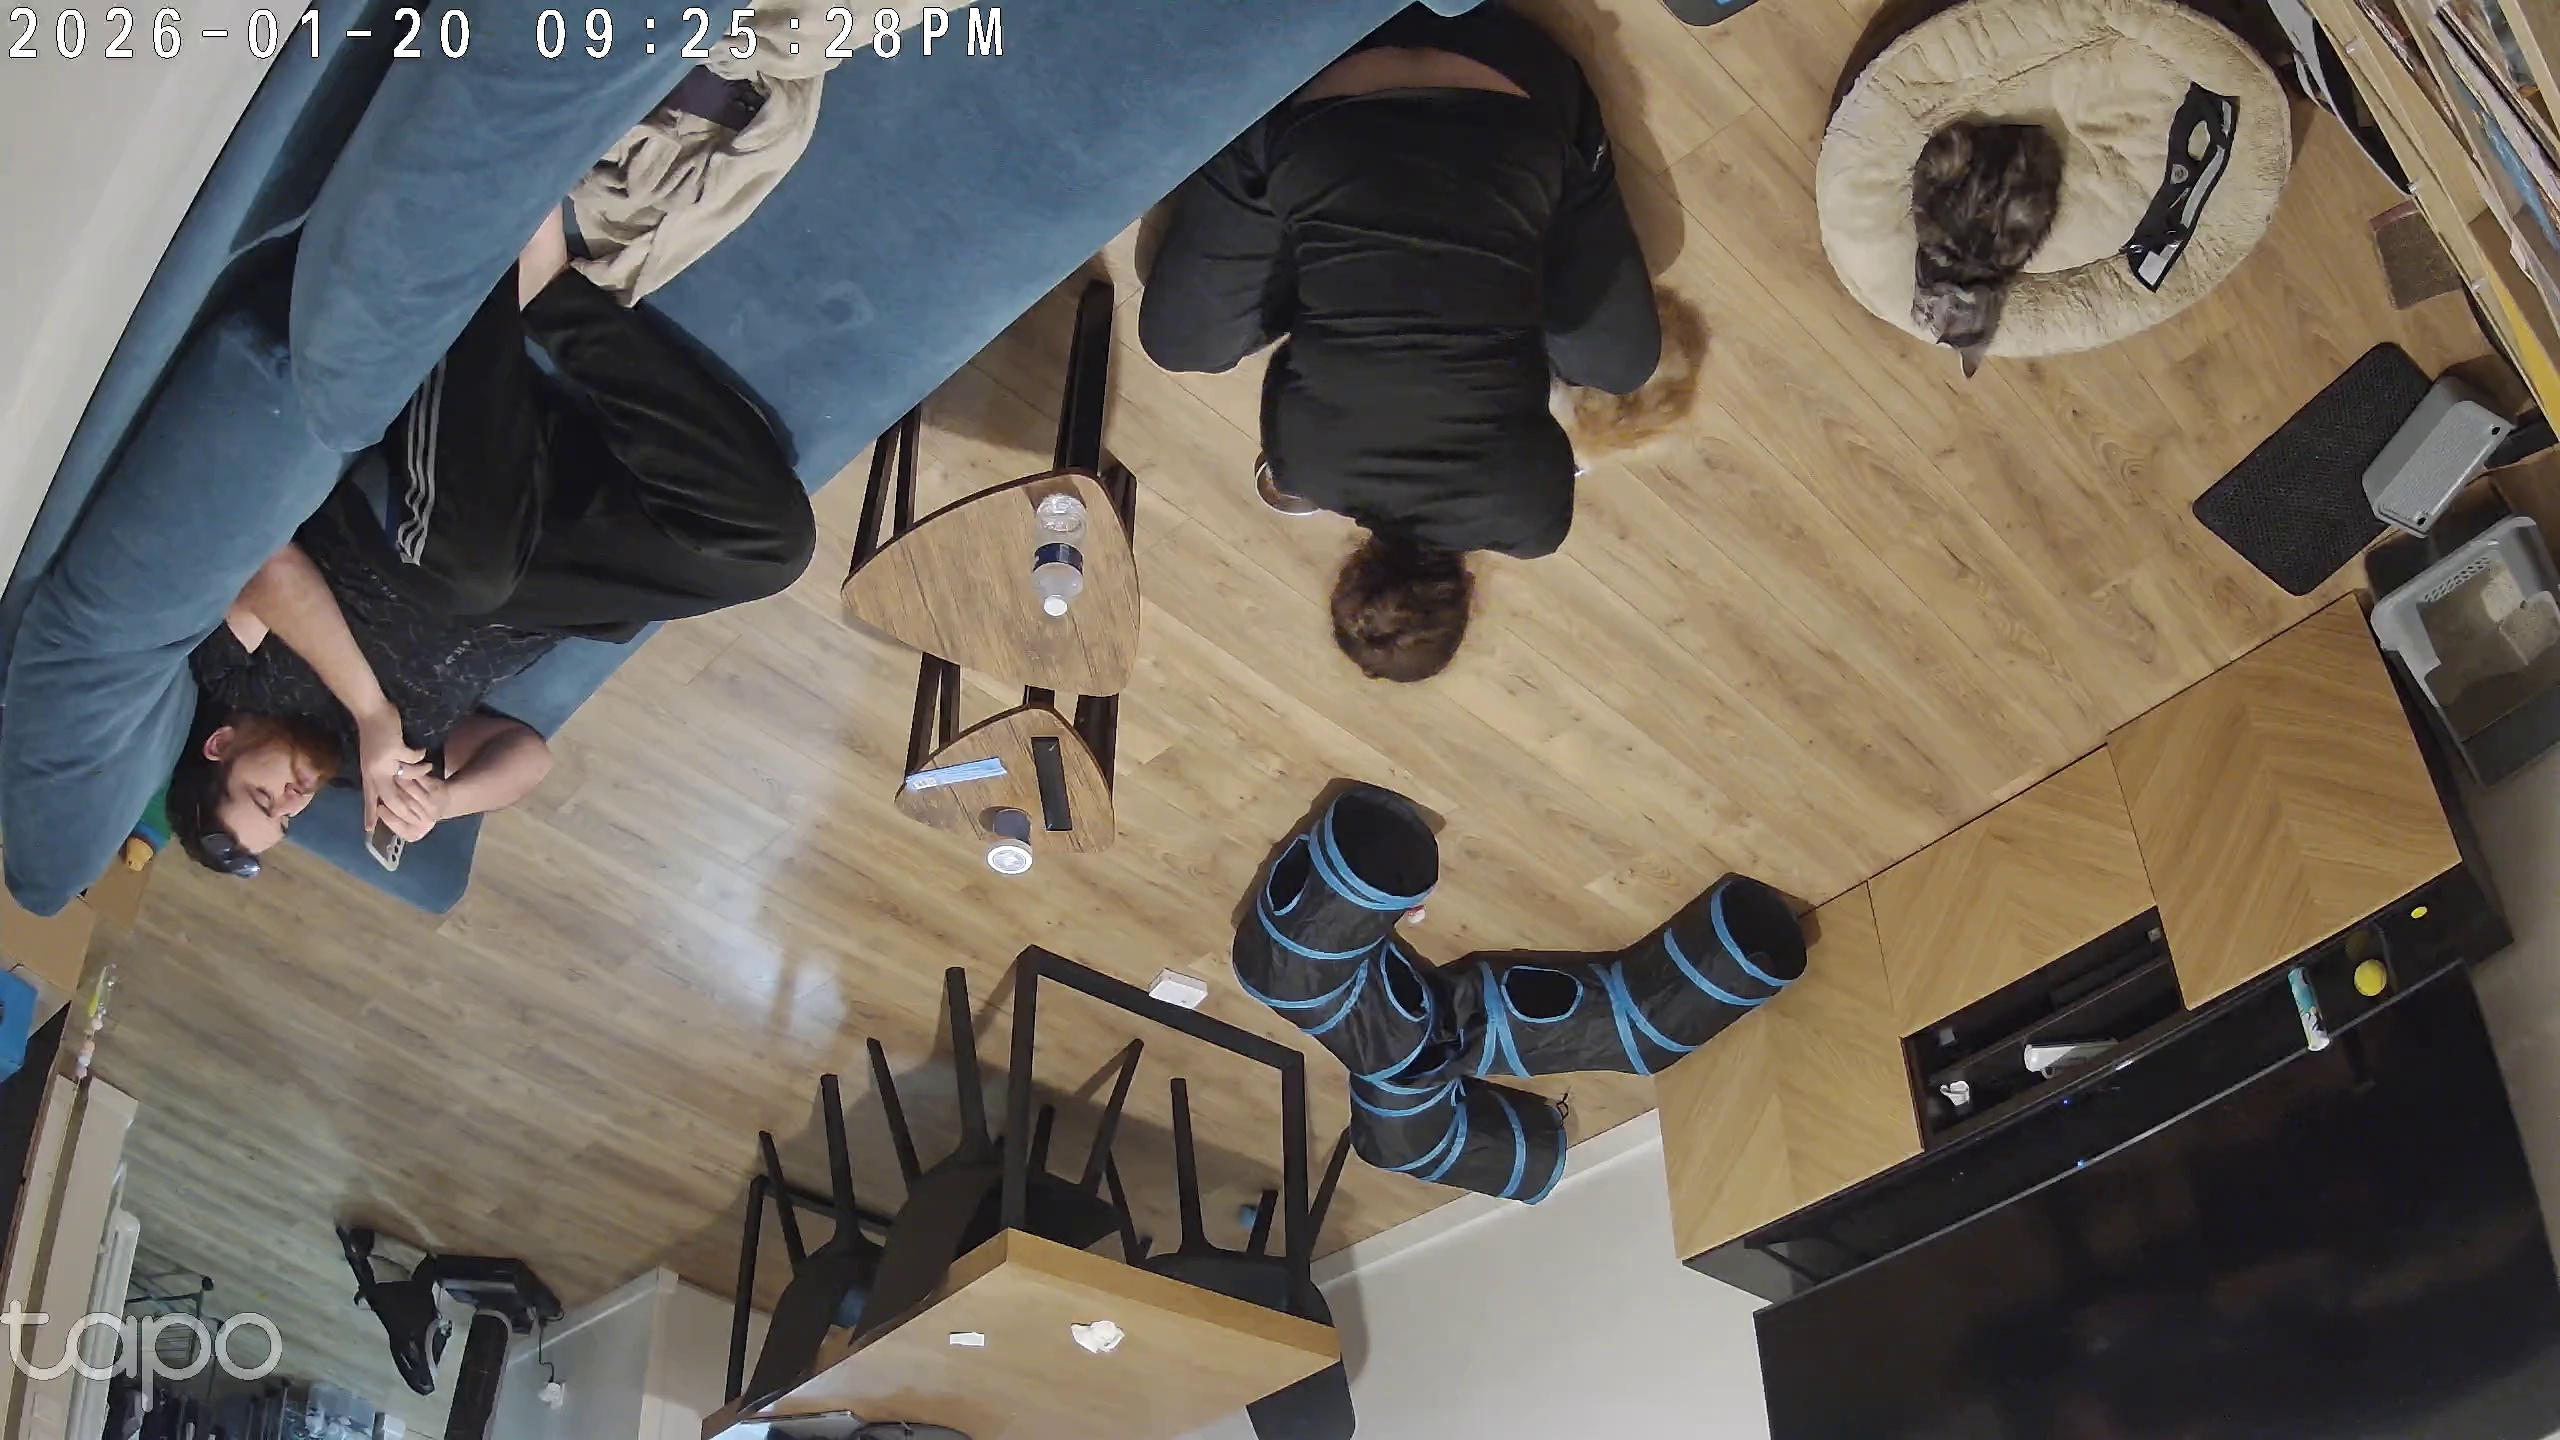Nala: (1904, 113, 2068, 380)
Simba: (1521, 281, 1723, 496), (1904, 113, 2064, 380)
